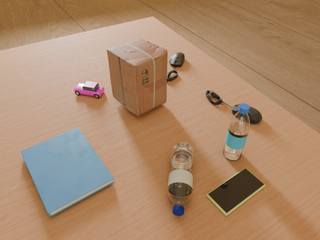book: (21, 127, 114, 217)
bottle: (167, 142, 194, 216), (223, 103, 250, 160)
box: (107, 39, 168, 116)
mouse: (231, 104, 262, 124), (169, 52, 185, 67)
phone: (207, 168, 265, 216)
toy_car: (74, 81, 104, 98)
